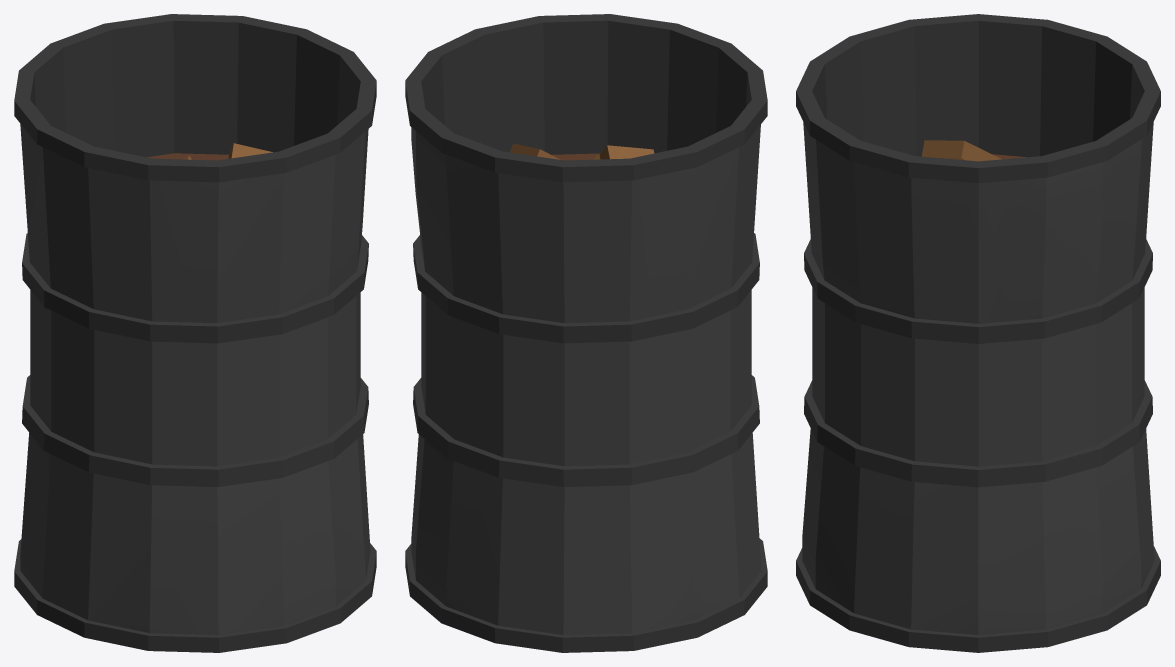
Rendered from SM_IndustrialProps_Barrel_04.fbx.
The picture shows the model from 3 angles, left to right: view 1: azimuth 30°, elevation 25°; view 2: azimuth 150°, elevation 25°; view 3: azimuth 270°, elevation 25°; orthographic projection.
Visible parts, largest first — view 1: SM_IndustrialProps_Barrel_04; view 2: SM_IndustrialProps_Barrel_04; view 3: SM_IndustrialProps_Barrel_04.
Boxes of the visible parts, box(x1,y1,x2,y2) form: SM_IndustrialProps_Barrel_04: box(14, 14, 376, 652); SM_IndustrialProps_Barrel_04: box(405, 14, 767, 652); SM_IndustrialProps_Barrel_04: box(796, 14, 1160, 652).
Bounding box in the file's own units: 0.6002 × 0.88 × 0.6002.
